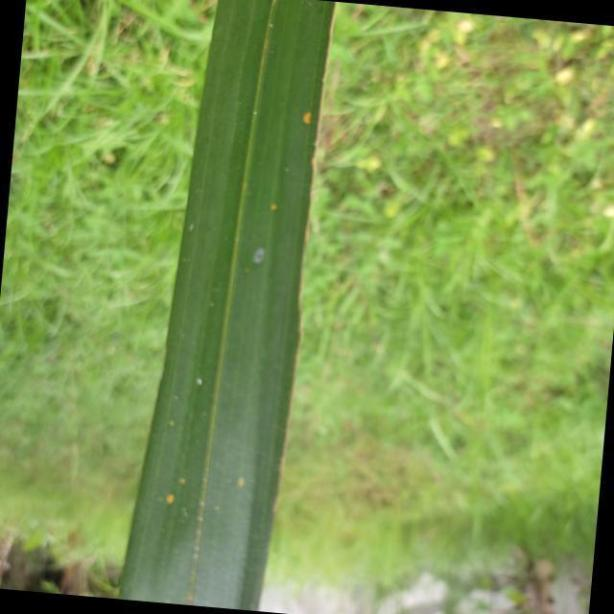Kalium: (121, 3, 337, 614)
